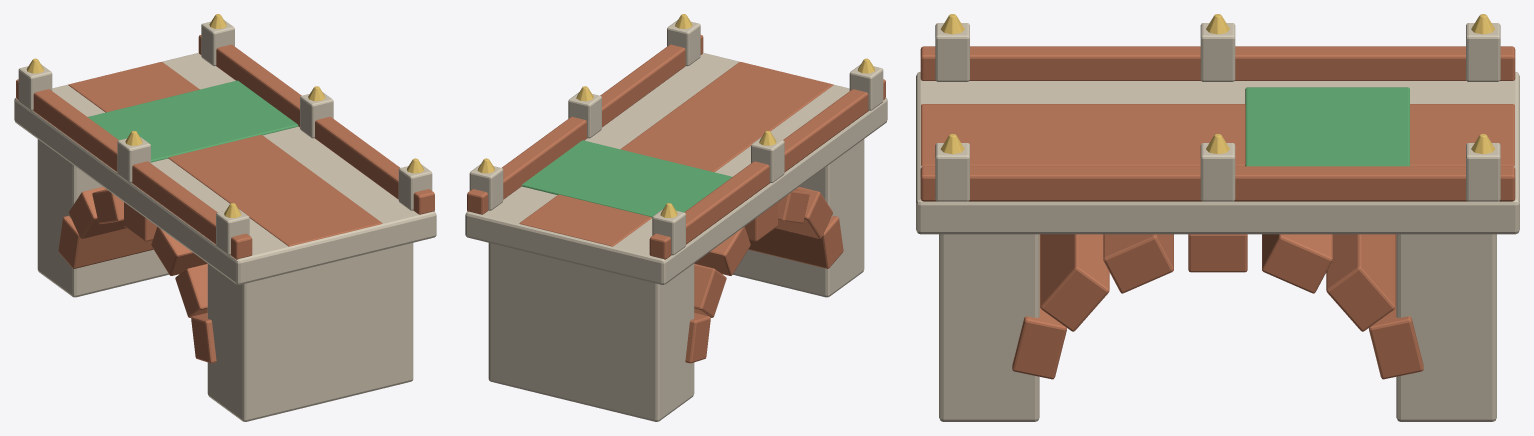
File: aqueduct_arch.glb
3 views of the same model, side by side, from view 1: azimuth 30°, elevation 25°; view 2: azimuth 150°, elevation 25°; view 3: azimuth 270°, elevation 25° (orthographic). The views are drawn at different scales.
Visible parts, largest first — view 1: Pier-2.5, Deck, CenterRunner, MossPatch, Pier2.5, Curb-1.55, Curb1.55, Voussoir0, Voussoir1, Voussoir4, Voussoir5, Post_1.55_-2.9 (+8 smaller); view 2: Pier2.5, Deck, CenterRunner, MossPatch, Pier-2.5, Curb-1.55, Curb1.55, Voussoir6, Voussoir5, Voussoir2, Voussoir1, Post_1.55_2.9 (+8 smaller); view 3: Deck, CenterRunner, Curb1.55, Pier2.5, Pier-2.5, Curb-1.55, MossPatch, Voussoir1, Voussoir5, Voussoir2, Voussoir4, Voussoir0 (+8 smaller).
Boxes of the visible parts, x1,y1,x2,y2 form: Pier-2.5: (207,243,413,421); Deck: (14,52,436,284); CenterRunner: (68,62,382,246); MossPatch: (88,80,298,162); Pier2.5: (37,139,168,297); Curb-1.55: (16,79,252,259); Curb1.55: (198,35,434,214); Voussoir0: (58,216,153,268); Voussoir1: (69,187,126,238); Voussoir4: (151,227,207,275); Voussoir5: (175,263,207,317); Post_1.55_-2.9: (398,164,432,210); Pier2.5: (488,243,694,421); Deck: (465,52,887,284); CenterRunner: (519,62,833,246); MossPatch: (522,140,732,217); Pier-2.5: (733,139,864,297); Curb-1.55: (649,79,885,259); Curb1.55: (467,35,703,214); Voussoir6: (748,216,843,268); Voussoir5: (775,187,832,238); Voussoir2: (694,227,750,275); Voussoir1: (694,263,726,317); Post_1.55_2.9: (469,164,503,210); Deck: (916,72,1519,234); CenterRunner: (921,104,1514,166); Curb1.55: (920,166,1515,201); Pier2.5: (1396,234,1496,421); Pier-2.5: (939,234,1039,421); Curb-1.55: (920,46,1515,80); MossPatch: (1245,87,1409,166); Voussoir1: (1326,234,1395,331); Voussoir5: (1040,234,1109,331); Voussoir2: (1262,234,1332,293); Voussoir4: (1103,234,1173,293); Voussoir0: (1369,234,1423,379).
Bounding box in the file's own units: 3.48 × 3.53 × 6.6.
